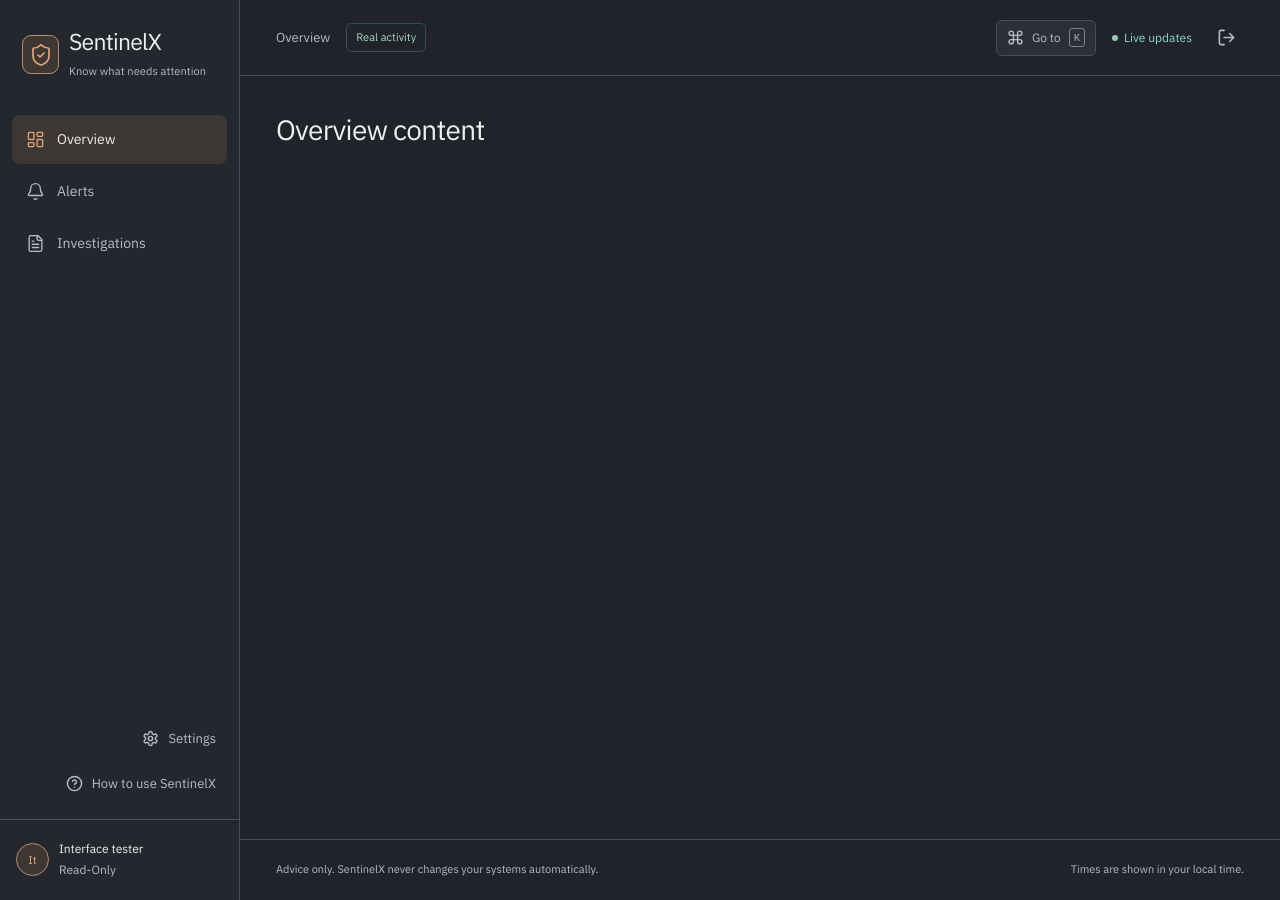
Test case: quick page navigation › limits read-only navigation to pages that role can open
Click the button with aria-label "Go to a page".
click(1046, 38)  # box [996, 20, 1096, 56]
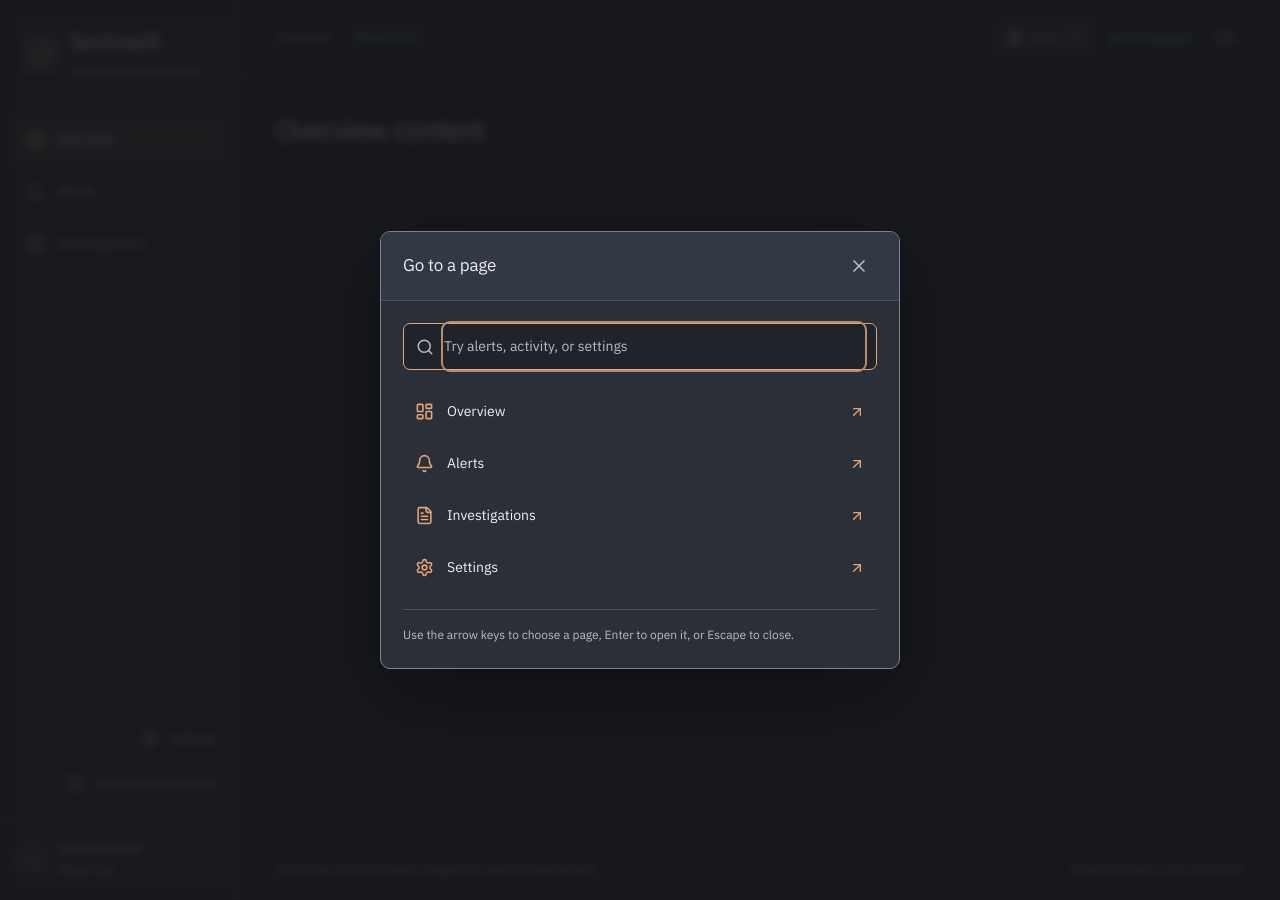
Expected: the button "Overview" is shown, [403, 388, 877, 435]
Expected: the button "Alerts" is shown, [403, 440, 877, 487]
Expected: the button "Investigations" is shown, [403, 492, 877, 539]
